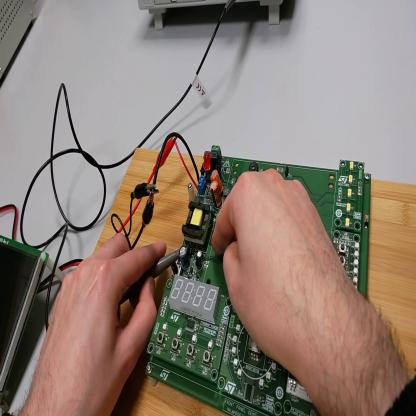hand: (18, 225, 170, 415), (216, 167, 348, 373)
low voltage board: (146, 133, 372, 416)
oscilloscope: (140, 1, 286, 30)
oscilloscope probe tip: (116, 242, 183, 315)
power supply: (2, 1, 39, 81)
working area: (94, 146, 416, 414)
